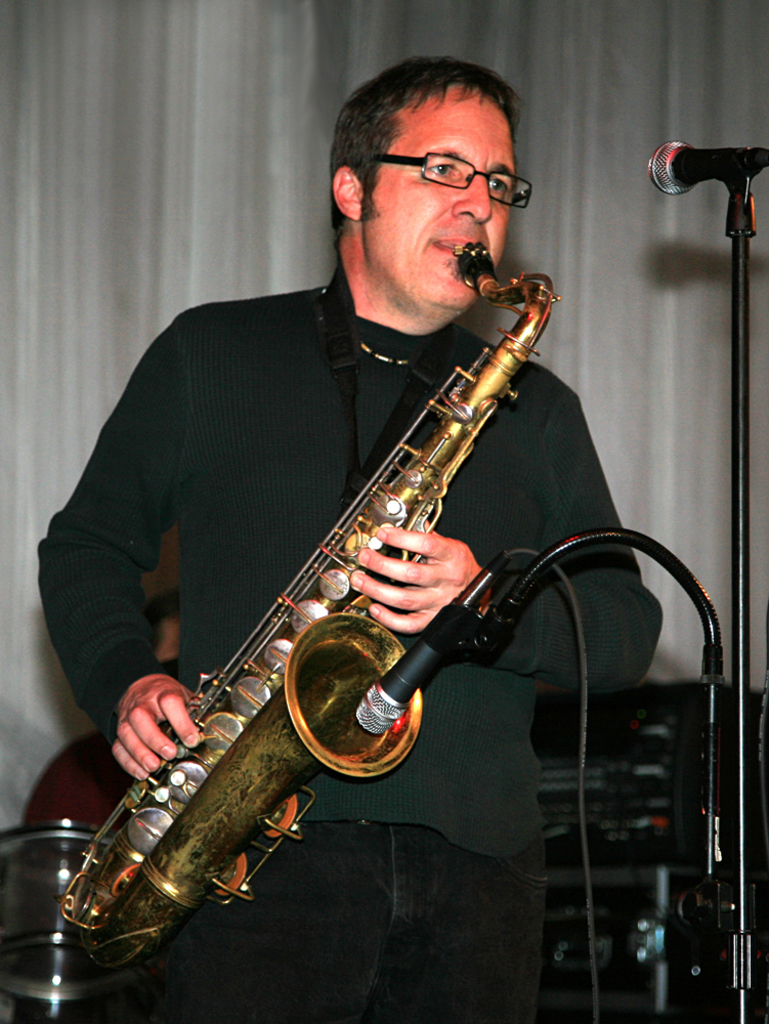Person: (36, 51, 665, 1024)
